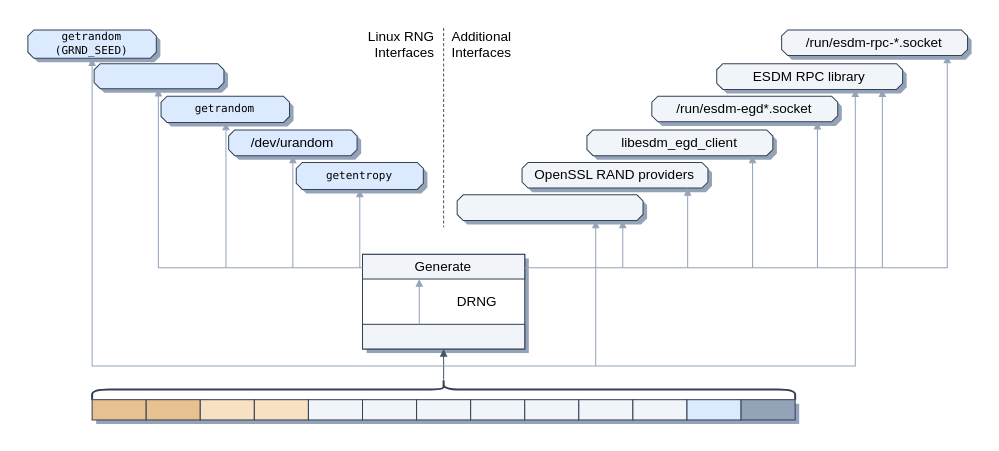
This 999x451 diagram has some shape labels left out. Each missing label, with the centre of its shape:
(Re)Seeding: the point at 442,336
/dev/random: the point at 158,75
ESDM library: the point at 549,207
